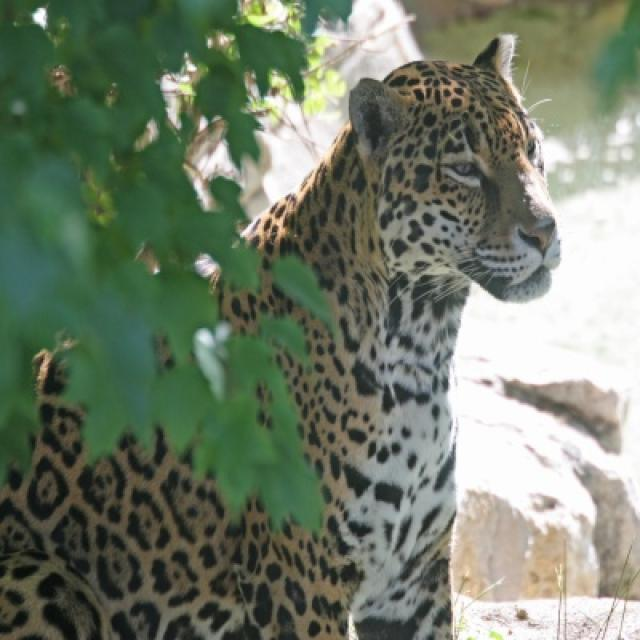Jaguar: (242, 34, 563, 638)
